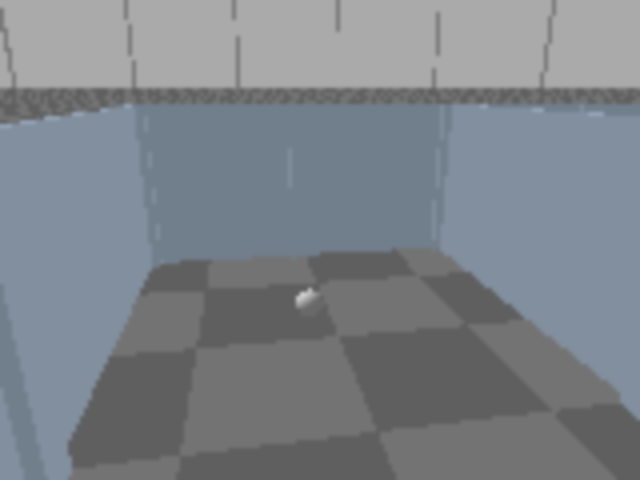puck: (292, 284, 326, 323)
